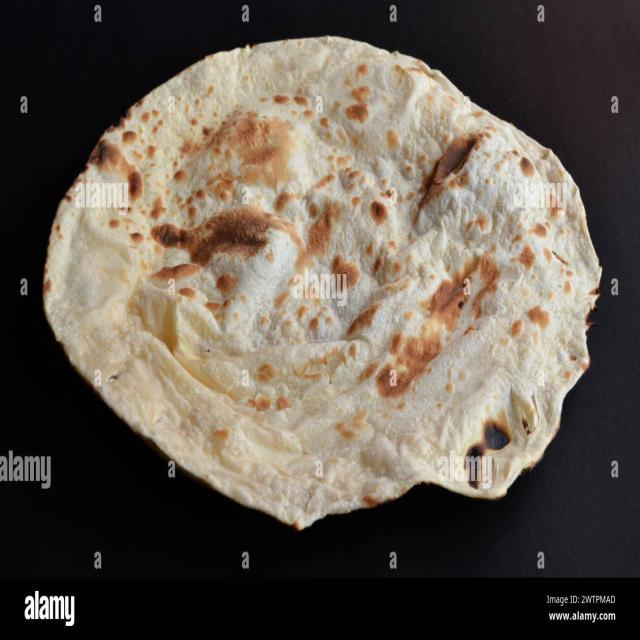ROTI: (40, 36, 600, 518)
